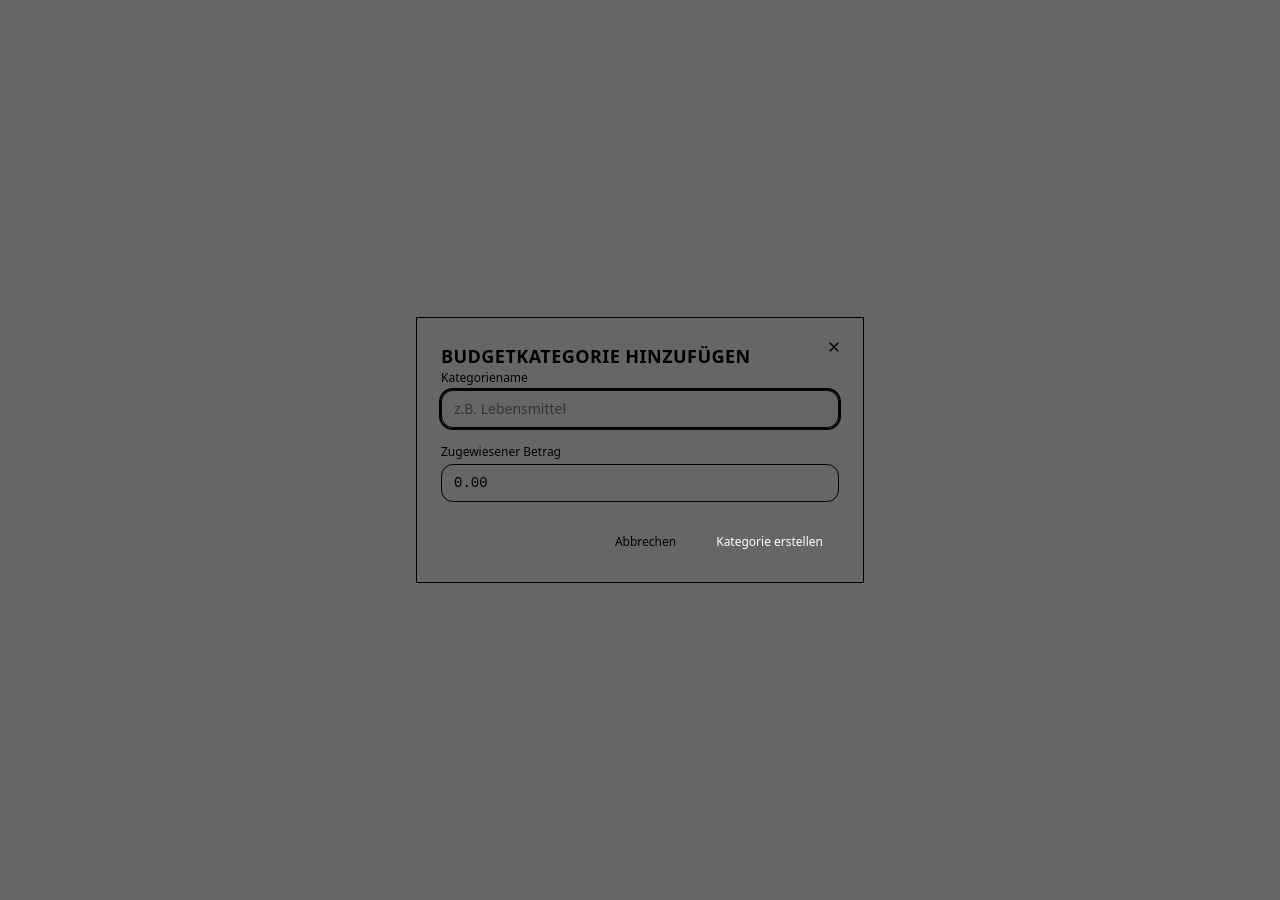
Scenario: dialogs surface failed saves › CategoryDialog shows the failure and keeps the typed name
The image size is (1280, 900).
In the field labelled "Kategoriename": x=640, y=409 [441,390,839,428], type "Groceries"
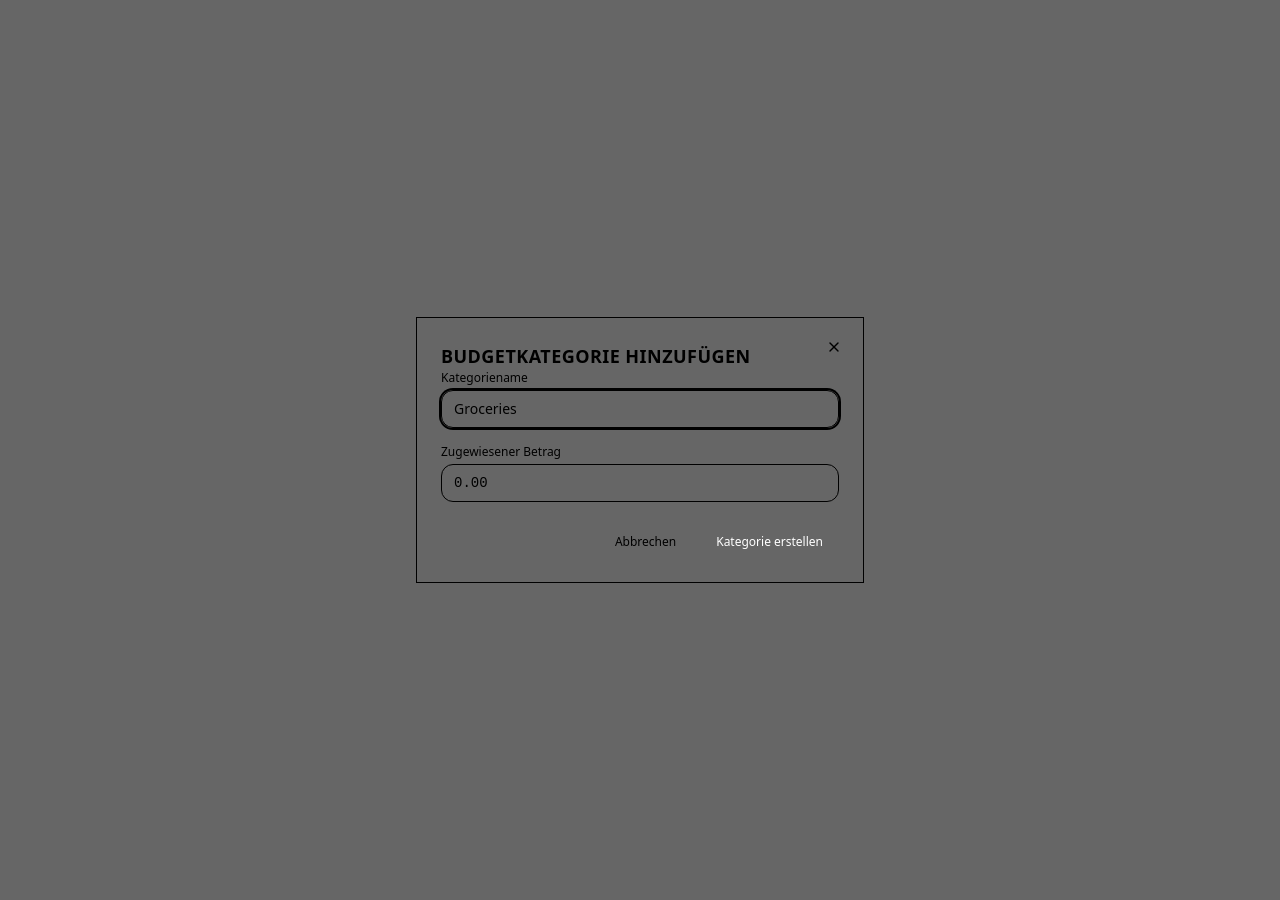
Submit the form labelled "Kategoriename", box [441,370,839,558]
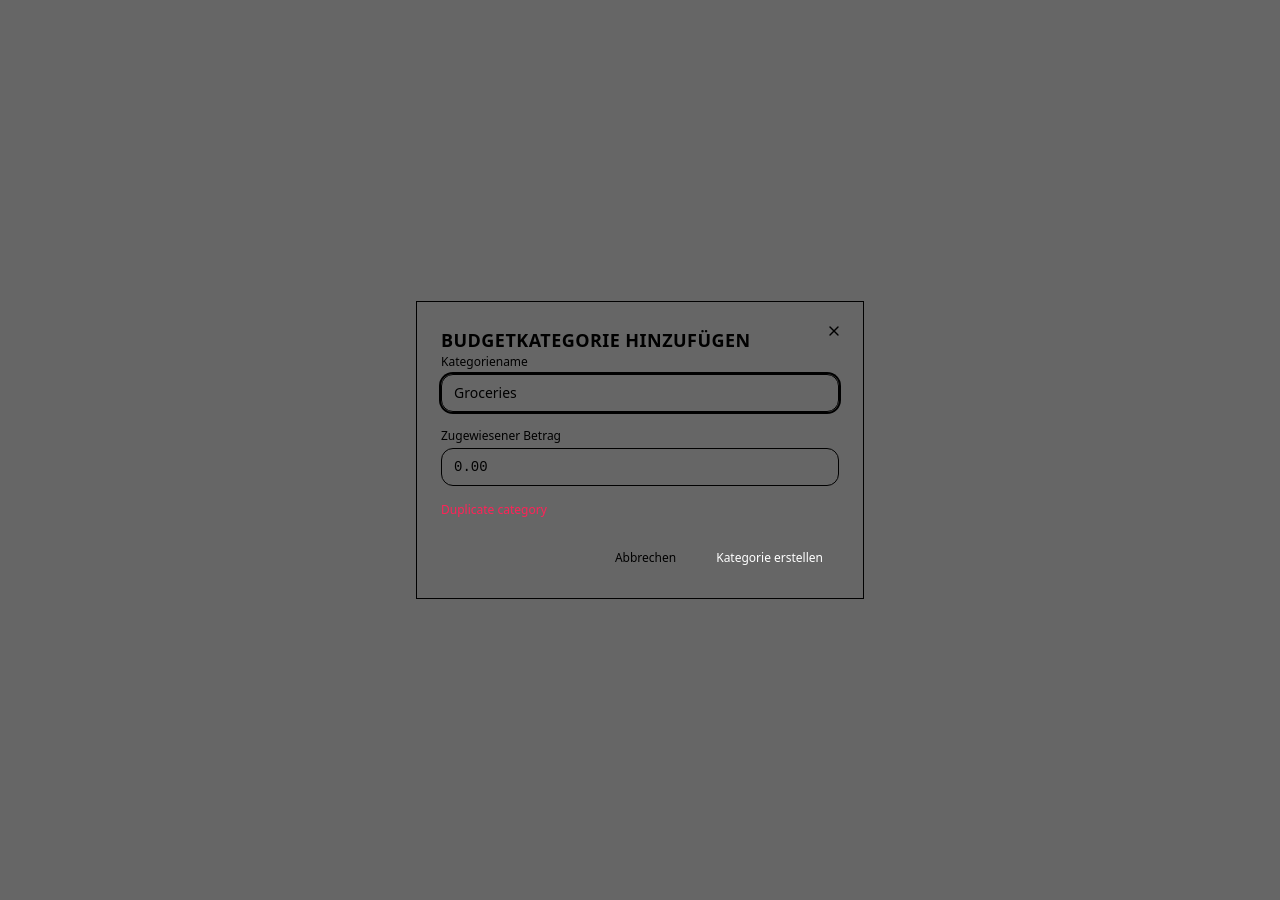
Result: the message reads "Duplicate category" at [441,501,547,518]
